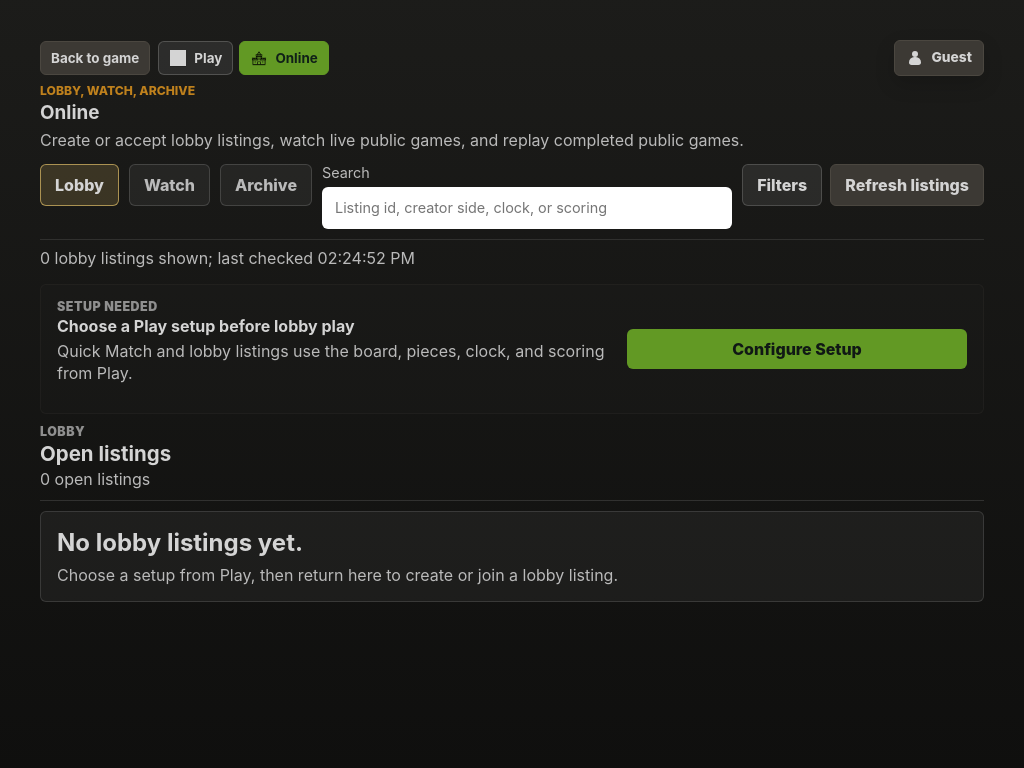
Test case: OnlineGameBrowser › opens account sign-in from a single Online navigation identity chip when Google is enabled
Expected: the link "Continue with Google" is not shown
Expected: the button "Create account" is not shown
What coordinates should you click on to do the following:
click the button named "Guest account. Open account sign in"
I would click on:
 (939, 58)
Its box is [894,40,984,76].
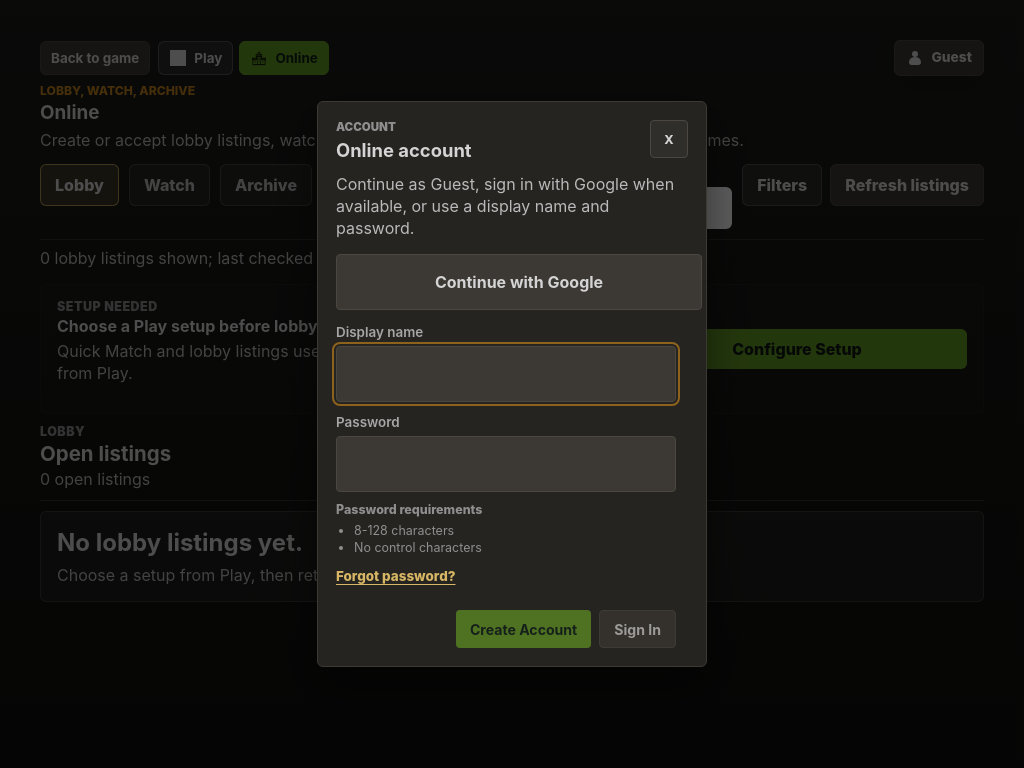
Expected: the button "Create Account" is shown, [456,610,591,648]
Expected: the button "Sign In" is shown, [599,610,676,648]
